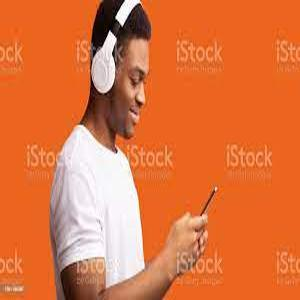Headphones: (88, 1, 153, 137)
